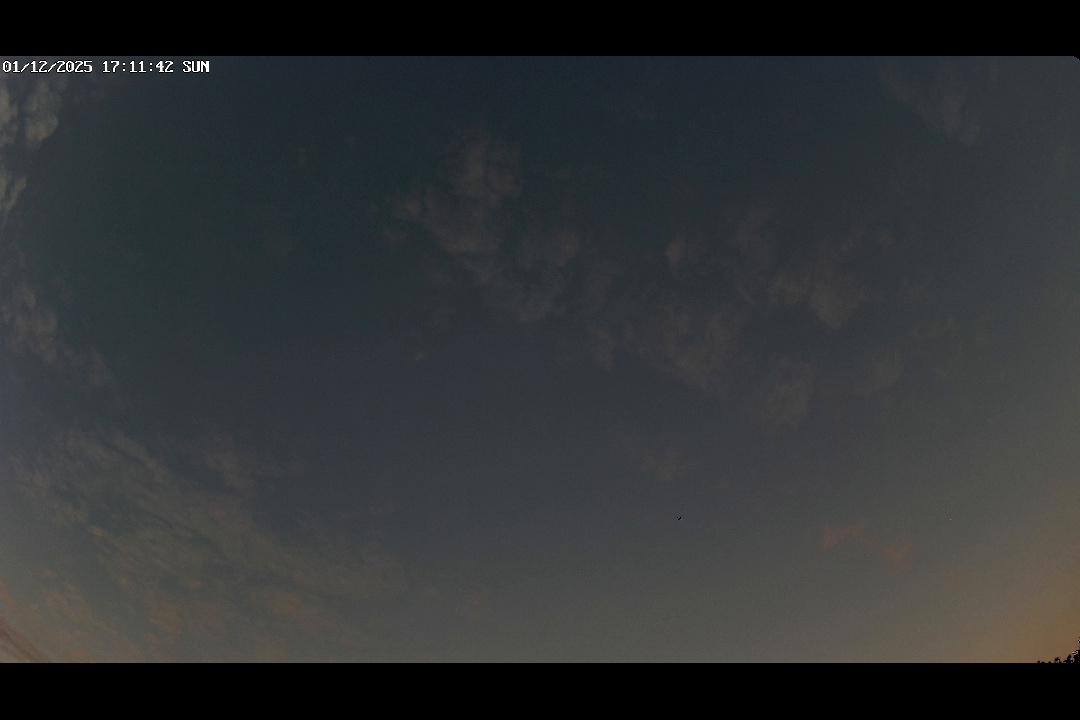WildLife: (670, 512, 693, 525)
